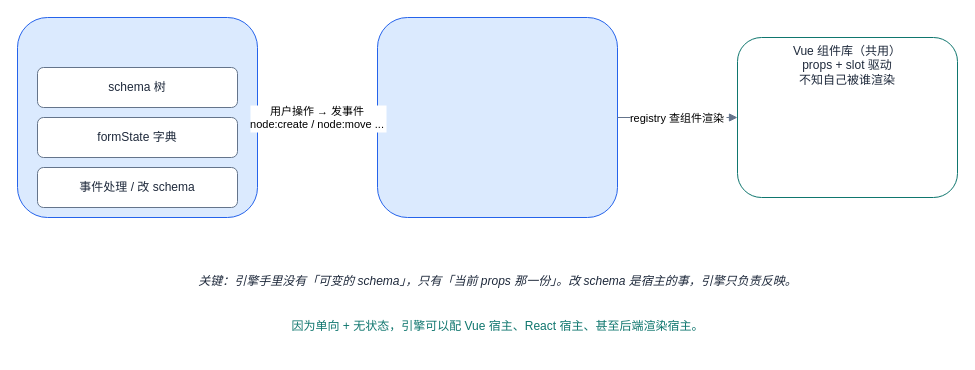
The diagram is 975 pixels wide and 370 high, and some of its shapes have lost their labels. The shapes that lost their labels are listed below. From the top down, each one's box as (x1, y1, x2, y2) in pixels, then its label:
(16, 16, 258, 218): 宿主（编辑器 / 业务层） 持有可变 schema
(376, 16, 618, 218): 渲染引擎（dumb） 只渲染 + 发事件 不持状态
